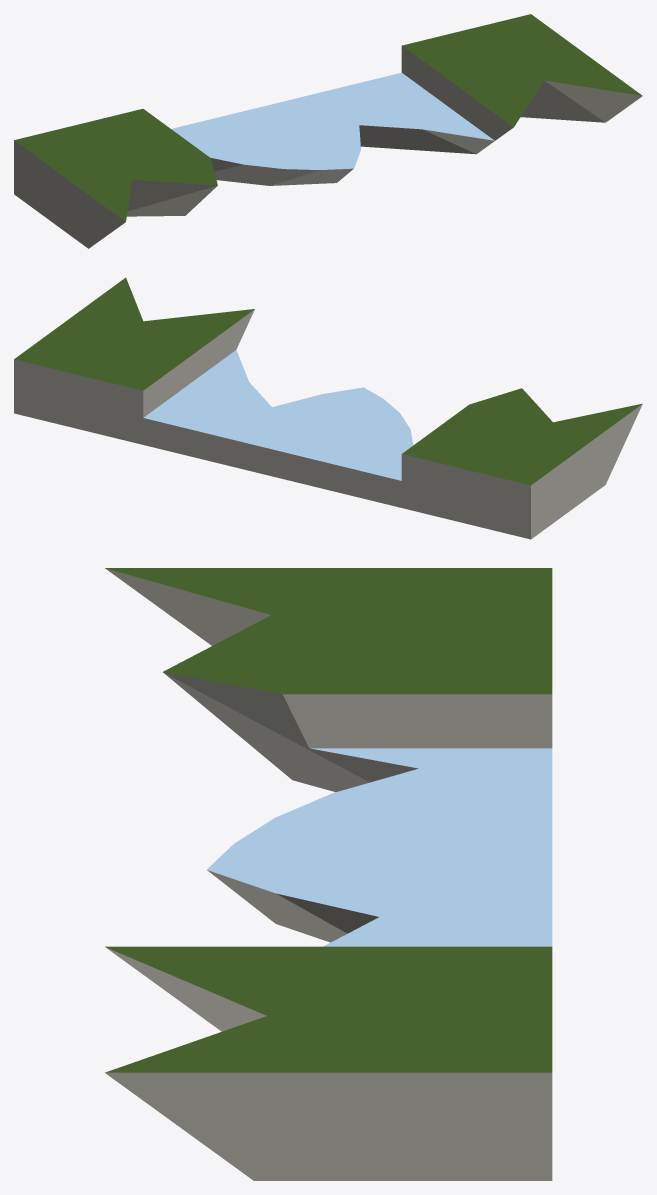
File: Terrain_Modular_Tiles_Grass_Rock_Cliff_Edge_River_Outer_04.fbx
3 renders of one model, top to bottom at view 1: azimuth 30°, elevation 25°; view 2: azimuth 150°, elevation 25°; view 3: azimuth 270°, elevation 25°, orthographic. The views are drawn at different scales.
Parts seen in each view (by area): view 1: Terrain_Modular_Tiles_Grass_Rock_Cliff_Edge_River_Outer_04; view 2: Terrain_Modular_Tiles_Grass_Rock_Cliff_Edge_River_Outer_04; view 3: Terrain_Modular_Tiles_Grass_Rock_Cliff_Edge_River_Outer_04.
Part boxes in pixels (x1,y1,x2,y2): Terrain_Modular_Tiles_Grass_Rock_Cliff_Edge_River_Outer_04: (14, 14, 642, 248); Terrain_Modular_Tiles_Grass_Rock_Cliff_Edge_River_Outer_04: (14, 277, 642, 539); Terrain_Modular_Tiles_Grass_Rock_Cliff_Edge_River_Outer_04: (105, 568, 552, 1180).
Size of the model in its own units: 118 by 11.81 by 44.29.
